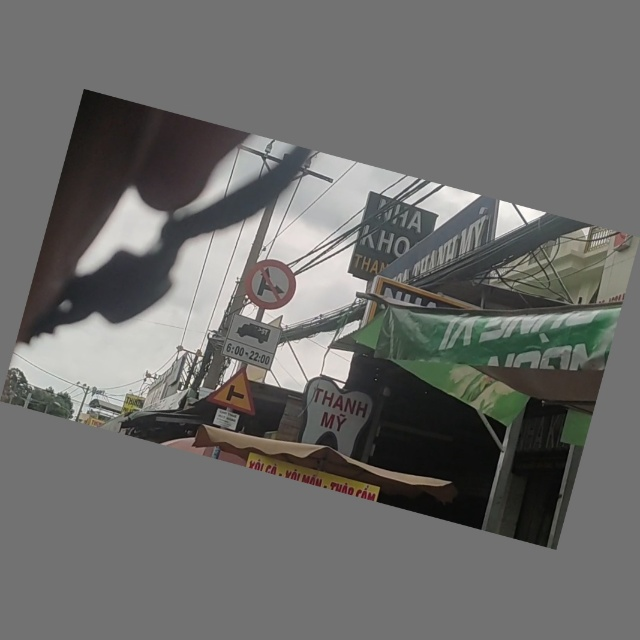P.139: (242, 255, 301, 314)
S.505a*Xe tai: (222, 314, 281, 368)
W.205b: (208, 362, 264, 415)
